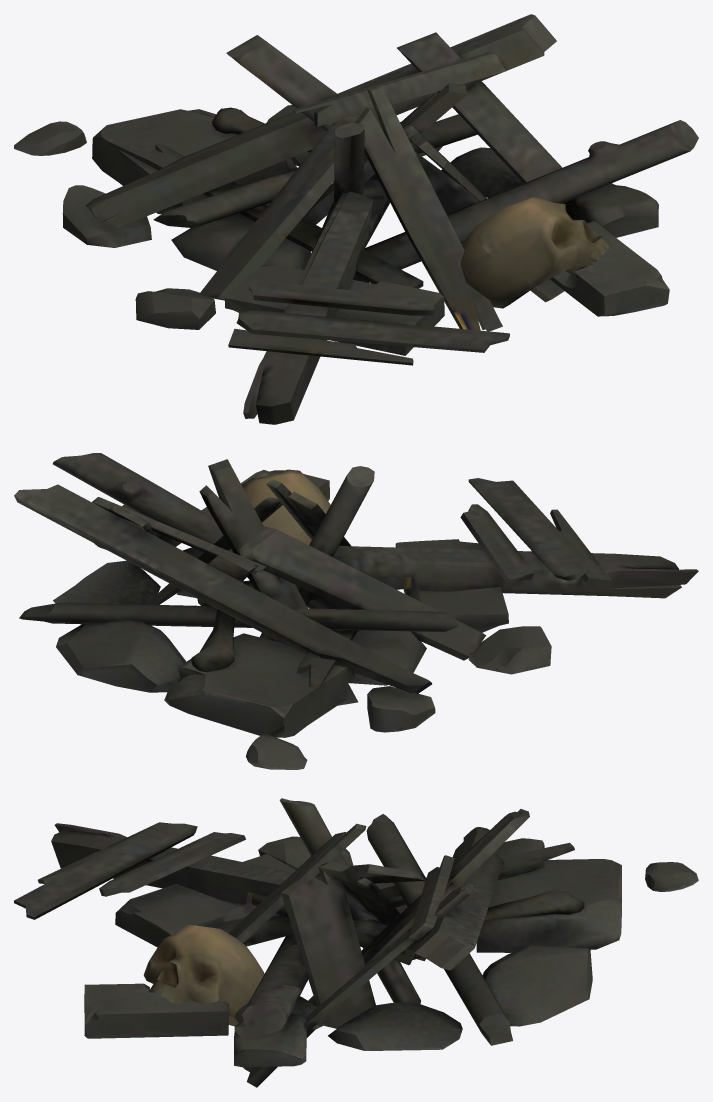
Rendered from creep_camp002a.fbx.
3 renders of one model, top to bottom at view 1: azimuth 30°, elevation 25°; view 2: azimuth 150°, elevation 25°; view 3: azimuth 270°, elevation 25°, orthographic. The views are drawn at different scales.
Visible parts, largest first — view 1: creep_camp002a; view 2: creep_camp002a; view 3: creep_camp002a.
Boxes of the visible parts, bbox=[...] form: creep_camp002a: bbox=[14, 14, 698, 424]; creep_camp002a: bbox=[14, 453, 698, 769]; creep_camp002a: bbox=[14, 798, 698, 1087].
Bounding box in the file's own units: 18533 × 6290 × 20250.
